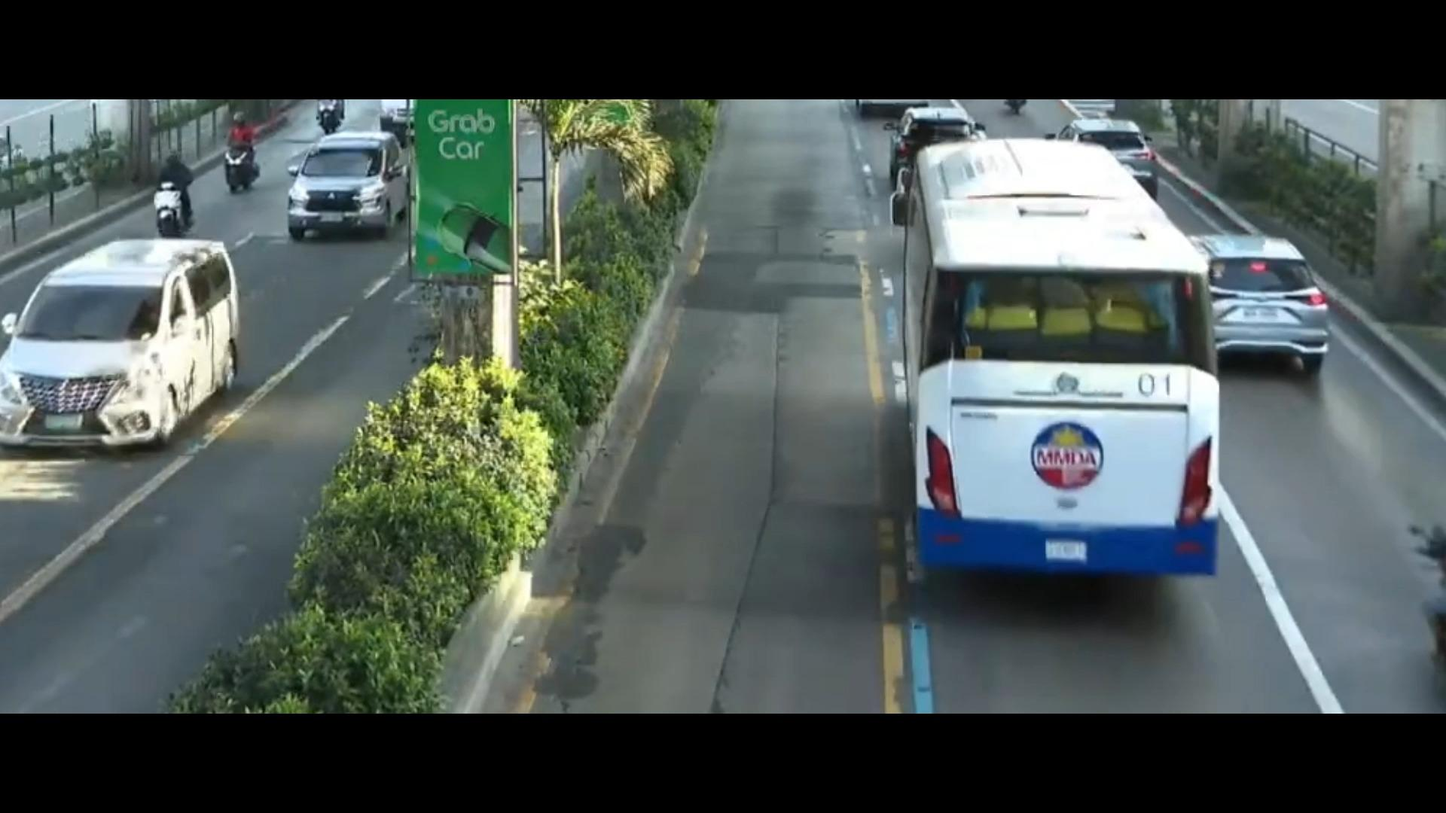Bus: (880, 113, 1253, 636)
Motorcycle: (134, 147, 221, 247), (206, 100, 277, 200)
SUV: (1196, 224, 1362, 356), (277, 132, 419, 234), (1060, 113, 1173, 211), (872, 96, 982, 168)
Van: (0, 232, 262, 463)
